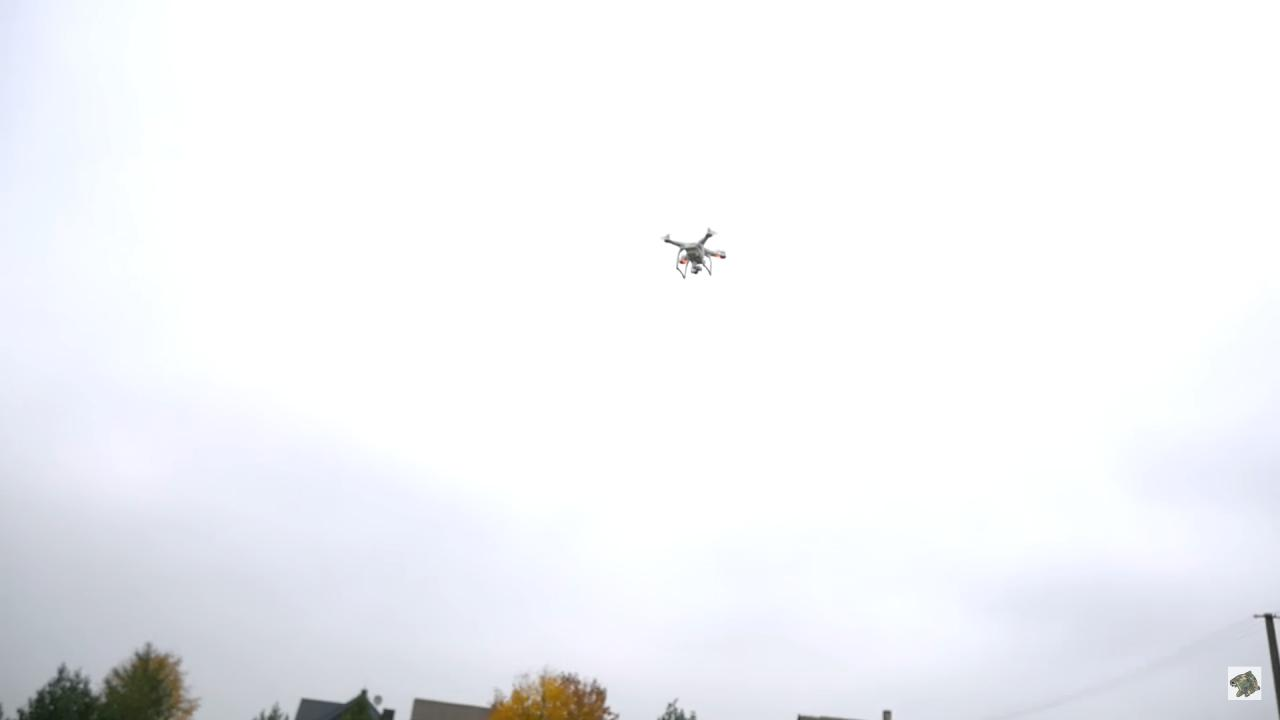Drone: (652, 215, 734, 290)
